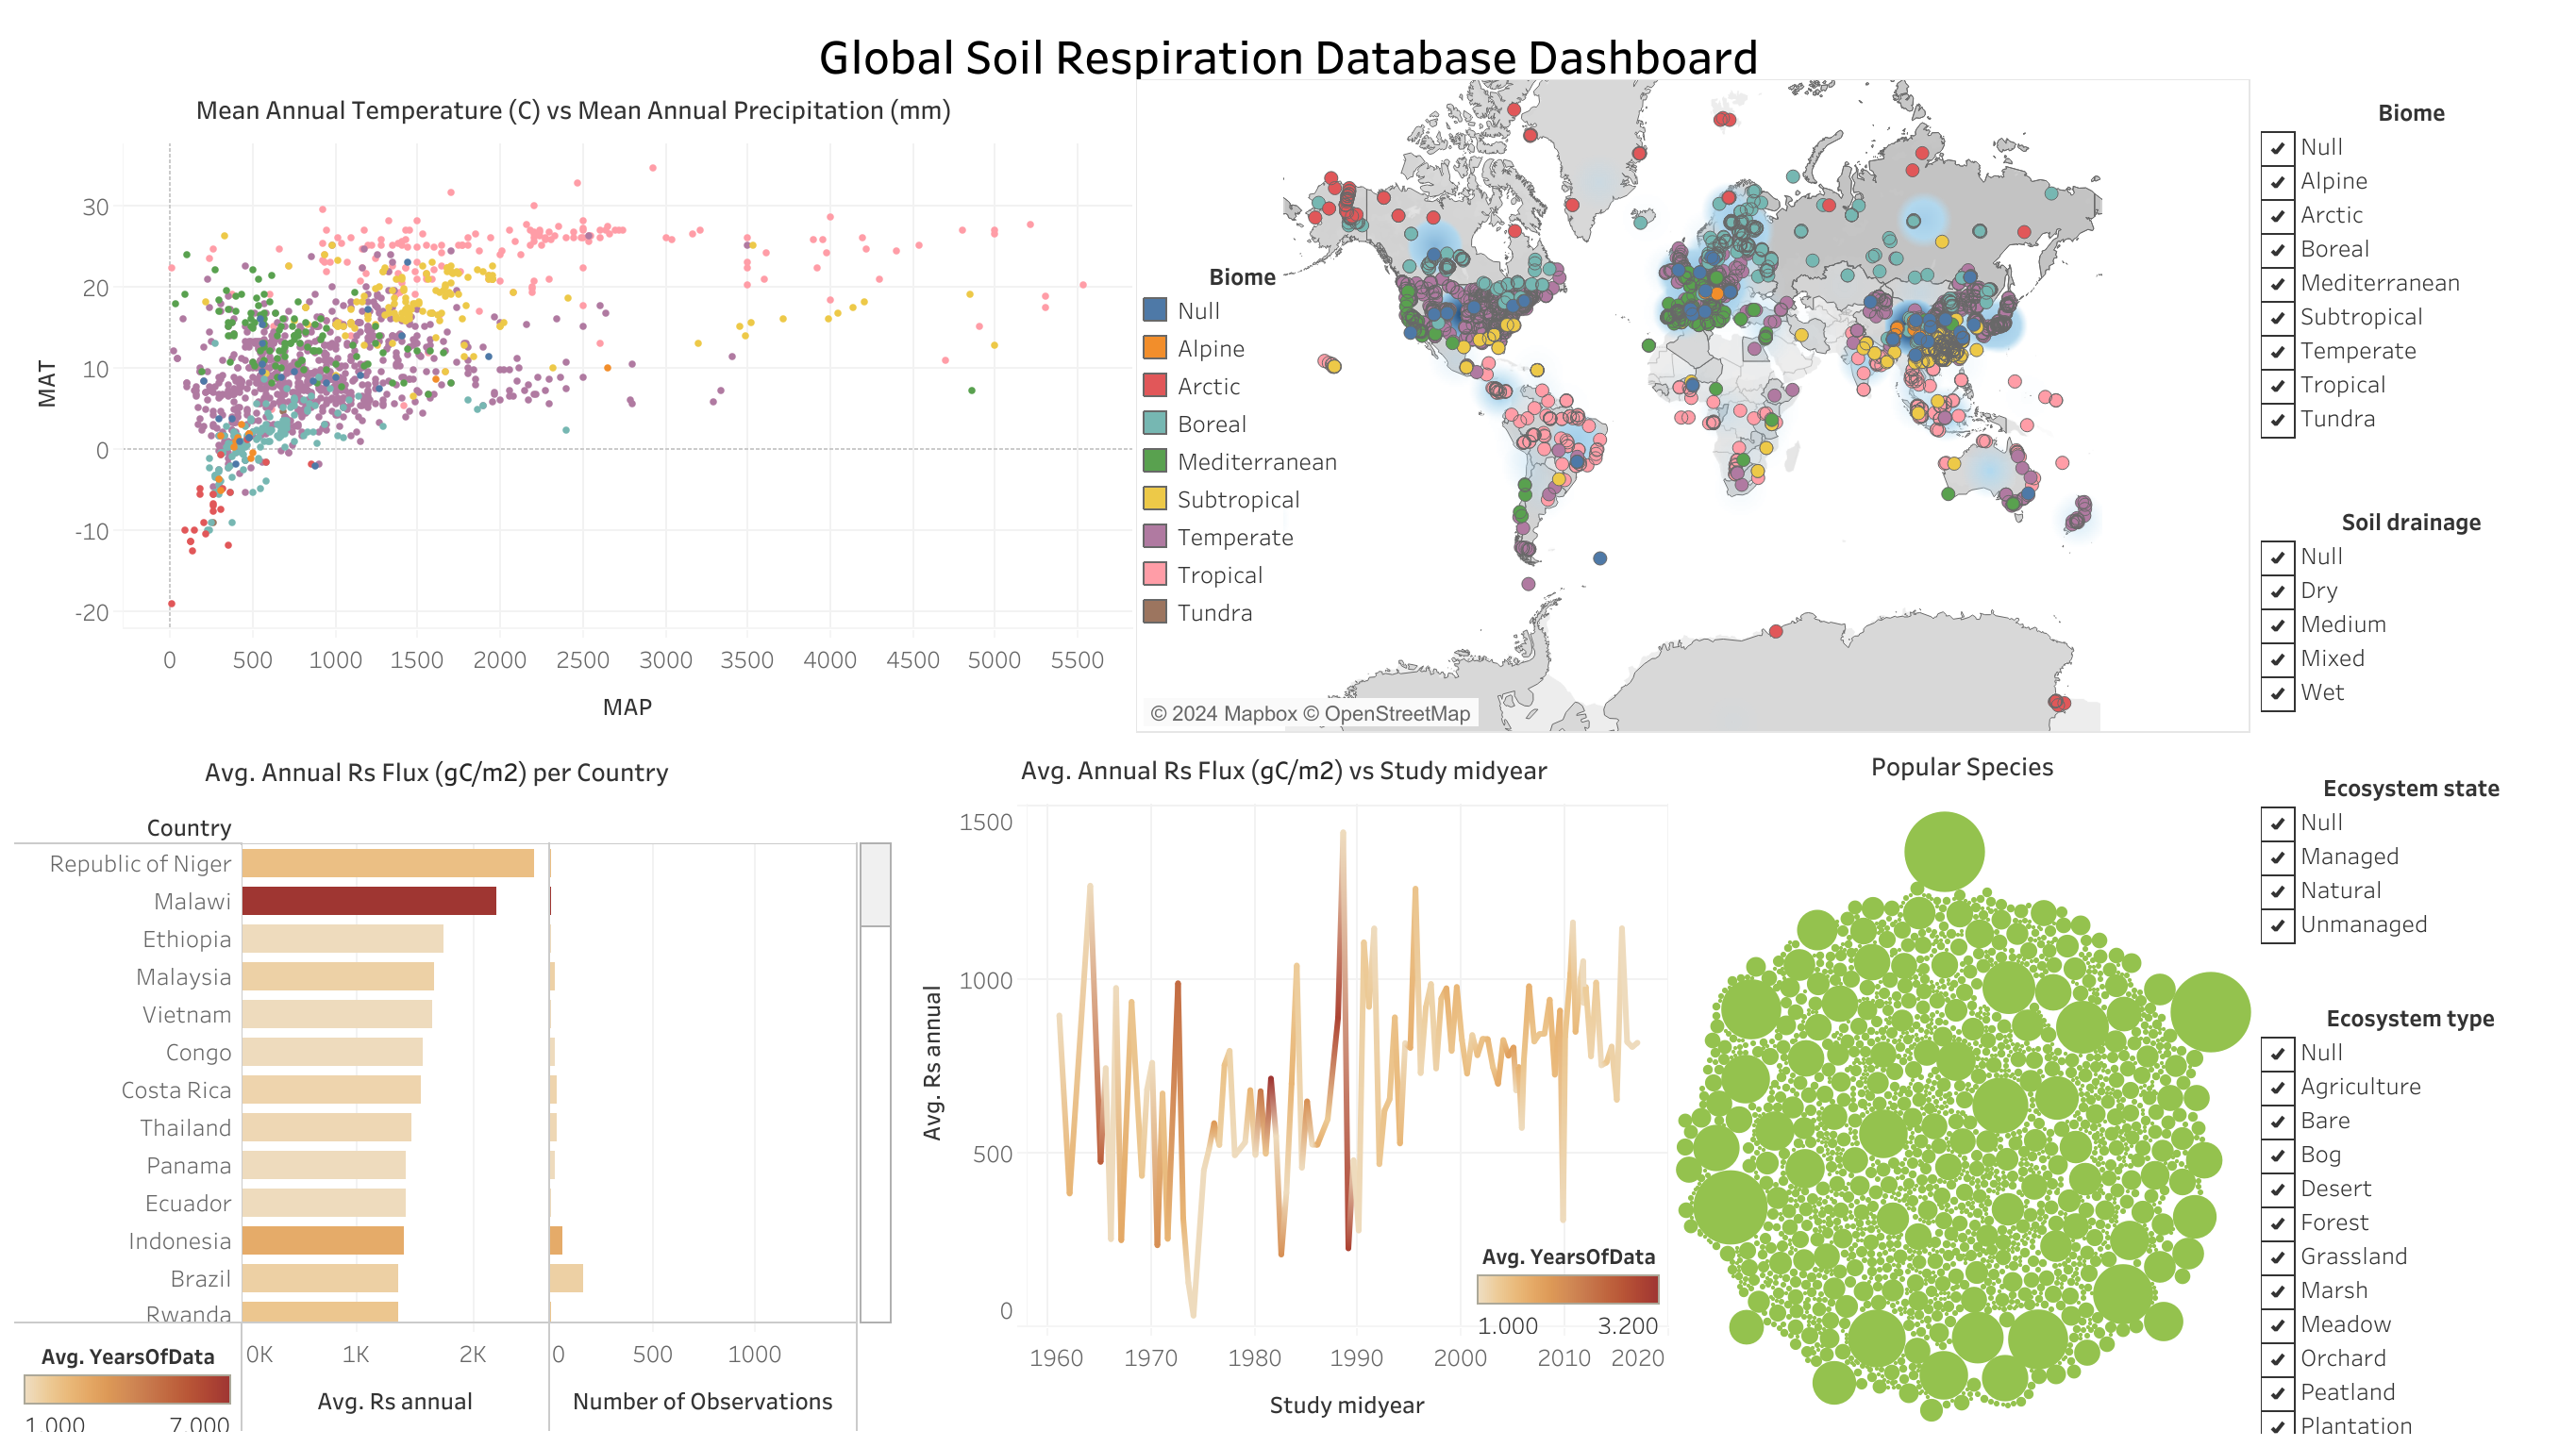

The page's visual inventory and layout, read from the dashboard file:
{"tool":"tableau","page":{"name":"SRDB_Dashboard","canvas":[1366,768],"ordinal":0},"visuals":[{"type":"title","box":[8,8,1350,41]},{"type":"worksheet","title":"MAT_MAP","mark":"Automatic","rows":["MAT"],"cols":["MAP"],"box":[8,42,592,348]},{"type":"worksheet","title":"Map","mark":"Multipolygon","box":[602,42,591,347]},{"type":"filter","title":"Species","param":"[federated.1l161v51v4p2yy1ctt4ze0t890qz].[none:Biome:nk]","box":[1198,49,160,214]},{"type":"legend","title":"Map","param":"[federated.1l161v51v4p2yy1ctt4ze0t890qz].[none:Biome:nk]","box":[602,135,111,199]},{"type":"filter","title":"Map","param":"[federated.1l161v51v4p2yy1ctt4ze0t890qz].[none:Soil_drainage:nk]","box":[1198,266,160,138]},{"type":"worksheet","title":"Species","mark":"Circle","box":[887,390,306,370]},{"type":"worksheet","title":"Rsannual_midyear","mark":"Automatic","rows":["Rs_annual"],"cols":["Study_midyear"],"box":[477,392,407,368]},{"type":"worksheet","title":"Rsannual_Country","mark":"Bar","rows":["Country"],"cols":["Rs_annual","Record_number"],"box":[8,393,466,366]},{"type":"filter","title":"Map","param":"[federated.1l161v51v4p2yy1ctt4ze0t890qz].[none:Ecosystem_state:nk]","box":[1198,407,160,119]},{"type":"filter","title":"Map","param":"[federated.1l161v51v4p2yy1ctt4ze0t890qz].[none:Ecosystem_type:nk]","box":[1198,529,159,231]},{"type":"legend","title":"Rsannual_midyear","param":"[federated.1l161v51v4p2yy1ctt4ze0t890qz].[avg:YearsOfData:qk]","box":[779,652,105,55]},{"type":"legend","title":"Rsannual_Country","param":"[federated.1l161v51v4p2yy1ctt4ze0t890qz].[avg:YearsOfData:qk]","box":[9,705,118,54]}]}

Visuals, with their boxes in screenshot pixels (x1, y1, x2, y2), scaled from the page's 1366x768 canvas onto the 2576x1447 screenshot:
title: 15:15:2561:92
"MAT_MAP" worksheet: 15:79:1131:735
"Map" worksheet (Multipolygon marks): 1135:79:2250:733
"Species" filter: 2259:92:2561:495
"Map" legend: 1135:255:1345:629
"Map" filter: 2259:501:2561:761
"Species" worksheet (Circle marks): 1673:735:2250:1432
"Rsannual_midyear" worksheet: 899:739:1667:1432
"Rsannual_Country" worksheet (Bar marks): 15:740:894:1430
"Map" filter: 2259:767:2561:991
"Map" filter: 2259:997:2559:1432
"Rsannual_midyear" legend: 1469:1228:1667:1332
"Rsannual_Country" legend: 17:1328:240:1430
